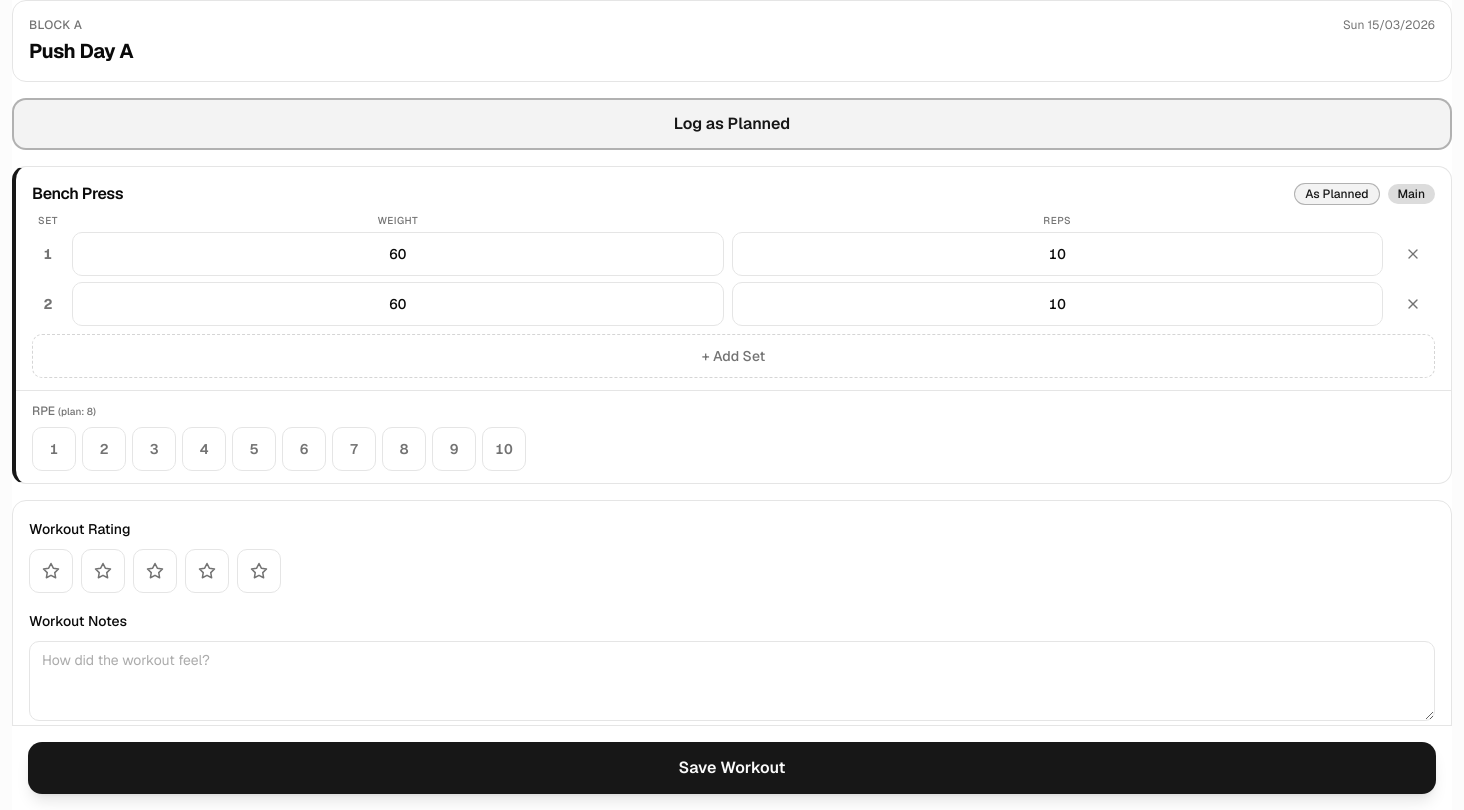
Test case: Per-exercise "As Planned" button — resistance › removes extra sets when user added beyond target_sets
The image size is (1464, 810).
// Add 2 extra sets
Click the button "+ Add Set" at (734, 356), box [32, 334, 1435, 378]
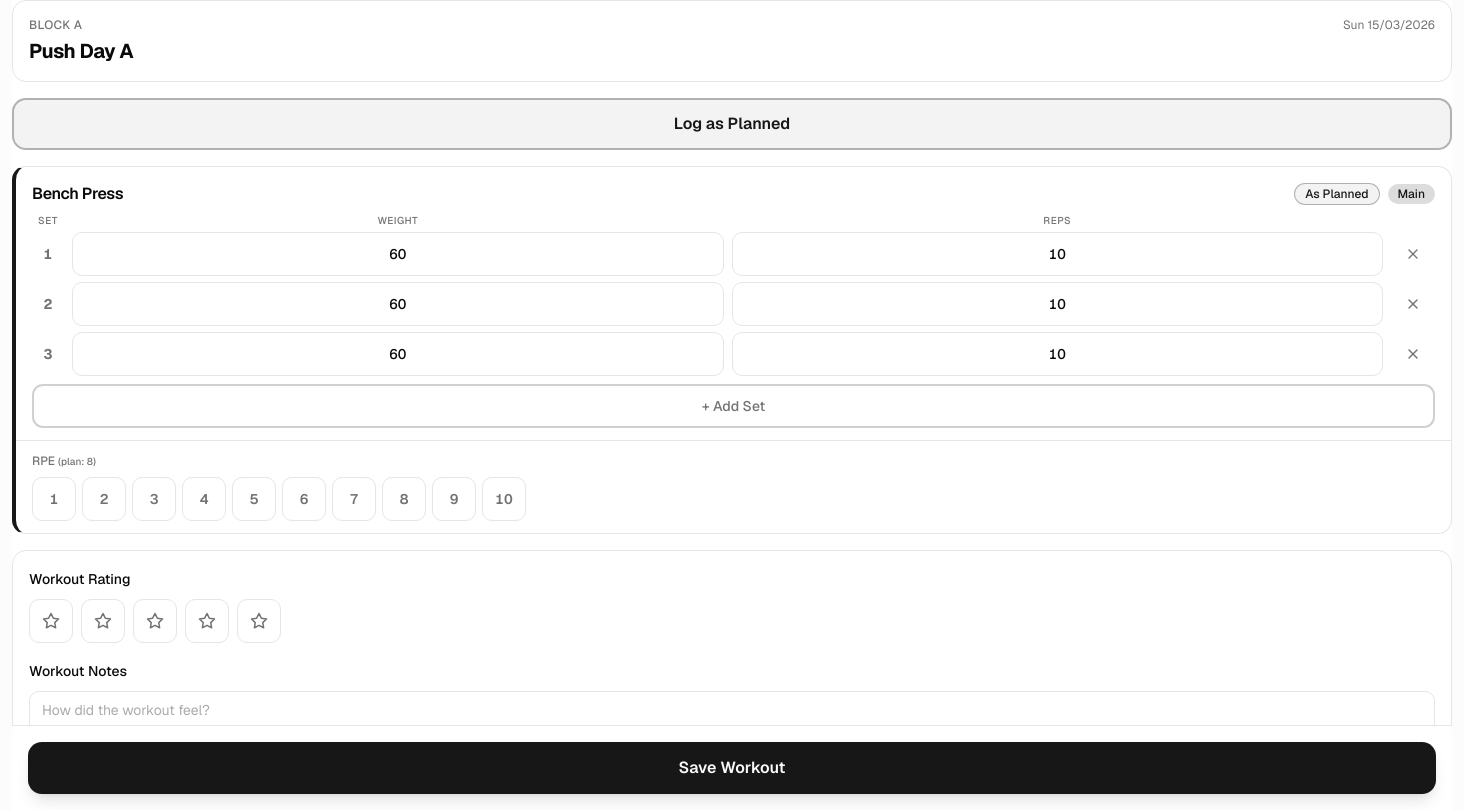
Click the button "+ Add Set" at (734, 406), box [32, 384, 1435, 428]
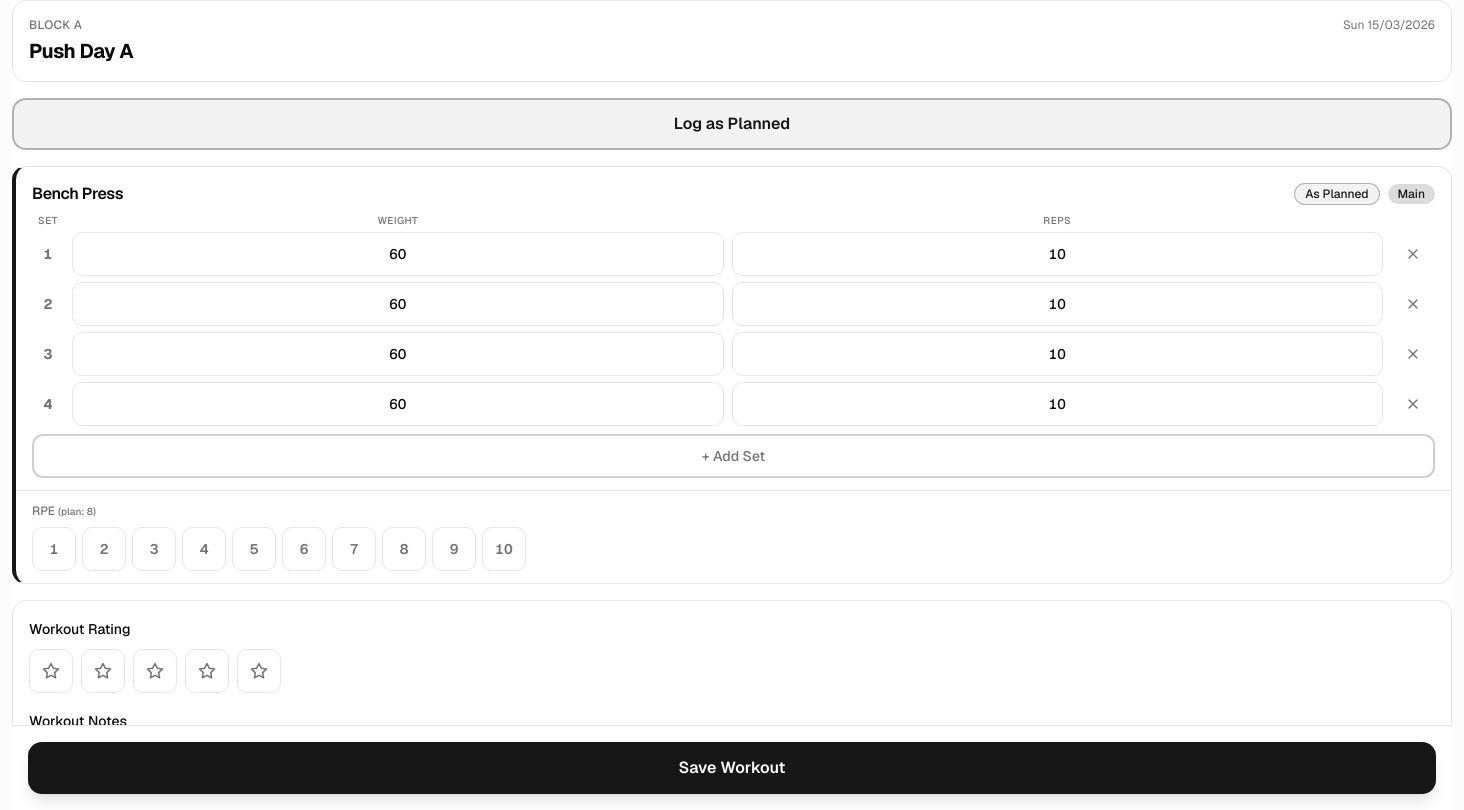
Now the number of elements with test id "set-row" is 4, box [32, 232, 1435, 276]; [32, 282, 1435, 326]; [32, 332, 1435, 376]; [32, 382, 1435, 426]
// Tap "As Planned"
Click the button with test id "as-planned-btn-0" at (1337, 194), box [1294, 183, 1380, 205]
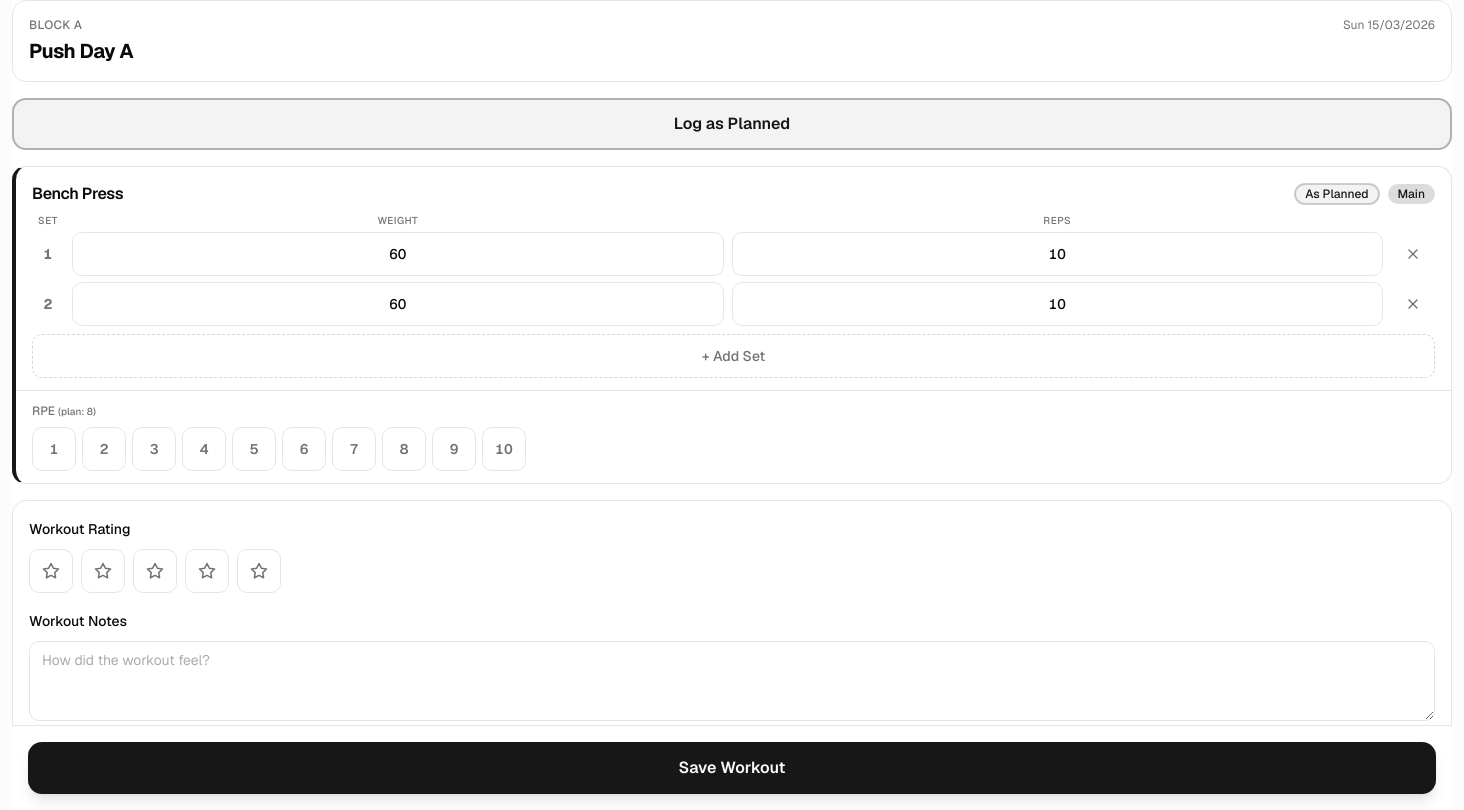
Expected: the field with test id "weight-input-0-0" holds "60", [72, 232, 724, 276]
Now the number of elements with test id "set-row" is 2, box [32, 232, 1435, 276]; [32, 282, 1435, 326]
